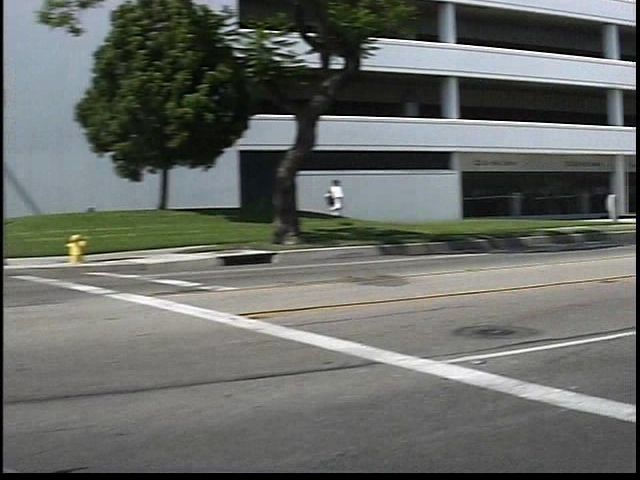person: (341, 176, 367, 237)
